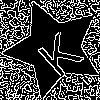K: (29, 23, 85, 80)
